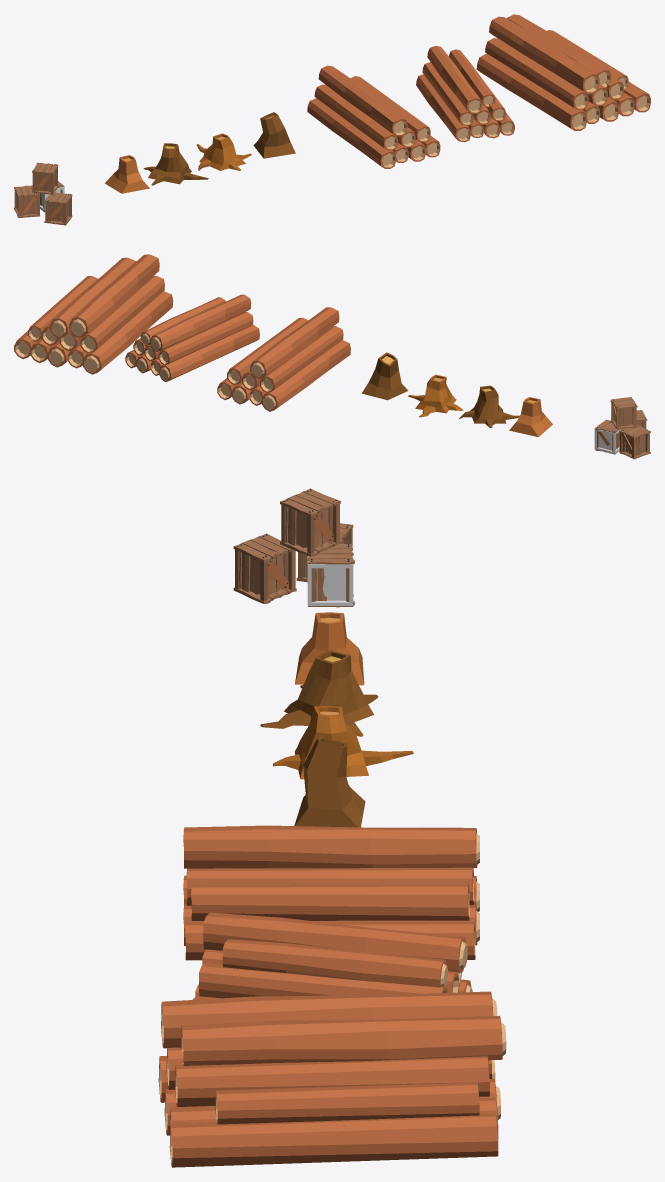
File: Wooden_Crate_Wooden_Log_Tree_Trunk.fbx
The picture shows the model from 3 angles, top to bottom: view 1: azimuth 30°, elevation 25°; view 2: azimuth 150°, elevation 25°; view 3: azimuth 270°, elevation 25°; orthographic projection. The views are drawn at different scales.
Visible parts, largest first — view 1: Cylinder.088, Cylinder.091, Cylinder.087, Cylinder.079, Cylinder.072, Cylinder.076, Cylinder.077, Cylinder.095, Cube.086, Cube.088, Cube.087, Cylinder.082 (+12 smaller); view 2: Cylinder.088, Cylinder.091, Cylinder.079, Cylinder.077, Cylinder.087, Cylinder.072, Cylinder.082, Cylinder.076, Cylinder.075, Cylinder.095, Cube.088, Cube.087 (+12 smaller); view 3: Cylinder.096, Cylinder.095, Cylinder.079, Cylinder.078, Cylinder.097, Cylinder.090, Cylinder.088, Cylinder.077, Cylinder.086, Cylinder.081, Cylinder.100, Cube.088 (+9 smaller).
Boxes of the visible parts, x1=… form: Cylinder.088: x1=489, y1=16, x2=599, y2=93; Cylinder.091: x1=476, y1=53, x2=586, y2=130; Cylinder.087: x1=485, y1=38, x2=588, y2=109; Cylinder.079: x1=318, y1=65, x2=407, y2=136; Cylinder.072: x1=307, y1=98, x2=396, y2=168; Cylinder.076: x1=314, y1=84, x2=397, y2=150; Cylinder.077: x1=427, y1=45, x2=482, y2=113; Cylinder.095: x1=507, y1=14, x2=611, y2=87; Cube.086: x1=144, y1=143, x2=208, y2=185; Cube.088: x1=253, y1=112, x2=295, y2=158; Cube.087: x1=197, y1=133, x2=251, y2=170; Cylinder.082: x1=416, y1=74, x2=470, y2=142; Cylinder.088: x1=69, y1=254, x2=159, y2=337; Cylinder.091: x1=82, y1=291, x2=173, y2=374; Cylinder.079: x1=250, y1=307, x2=339, y2=379; Cylinder.077: x1=150, y1=294, x2=251, y2=351; Cylinder.087: x1=80, y1=275, x2=164, y2=352; Cylinder.072: x1=261, y1=340, x2=350, y2=411; Cylinder.082: x1=159, y1=325, x2=259, y2=381; Cylinder.076: x1=260, y1=326, x2=343, y2=392; Cylinder.075: x1=158, y1=312, x2=253, y2=364; Cylinder.095: x1=49, y1=257, x2=136, y2=338; Cube.088: x1=361, y1=352, x2=408, y2=400; Cube.087: x1=408, y1=374, x2=463, y2=417; Cylinder.096: x1=169, y1=1113, x2=498, y2=1167; Cylinder.095: x1=181, y1=1015, x2=506, y2=1065; Cylinder.079: x1=183, y1=825, x2=479, y2=868; Cylinder.078: x1=191, y1=883, x2=469, y2=920; Cylinder.097: x1=215, y1=1082, x2=479, y2=1124; Cylinder.090: x1=175, y1=1056, x2=489, y2=1106; Cylinder.088: x1=161, y1=991, x2=497, y2=1048; Cylinder.077: x1=203, y1=912, x2=467, y2=972; Cylinder.086: x1=222, y1=939, x2=447, y2=987; Cylinder.081: x1=199, y1=963, x2=447, y2=998; Cylinder.100: x1=186, y1=867, x2=474, y2=905; Cube.088: x1=294, y1=737, x2=365, y2=827.
Bounding box in the file's own units: 8025 × 740 × 2019.
